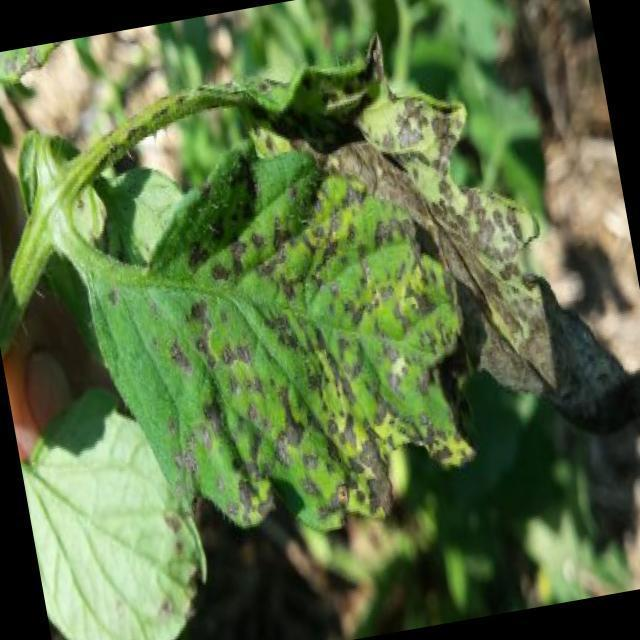Septoria: (126, 135, 487, 531)
